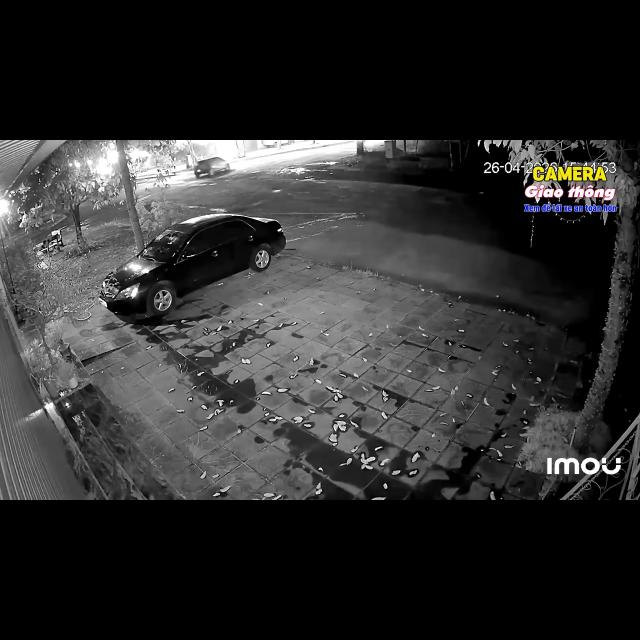car: (99, 213, 286, 317), (194, 157, 230, 178), (262, 140, 278, 147)
